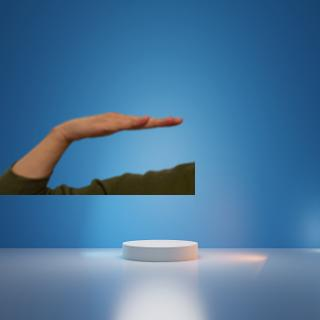WAIT: (49, 105, 186, 146)
